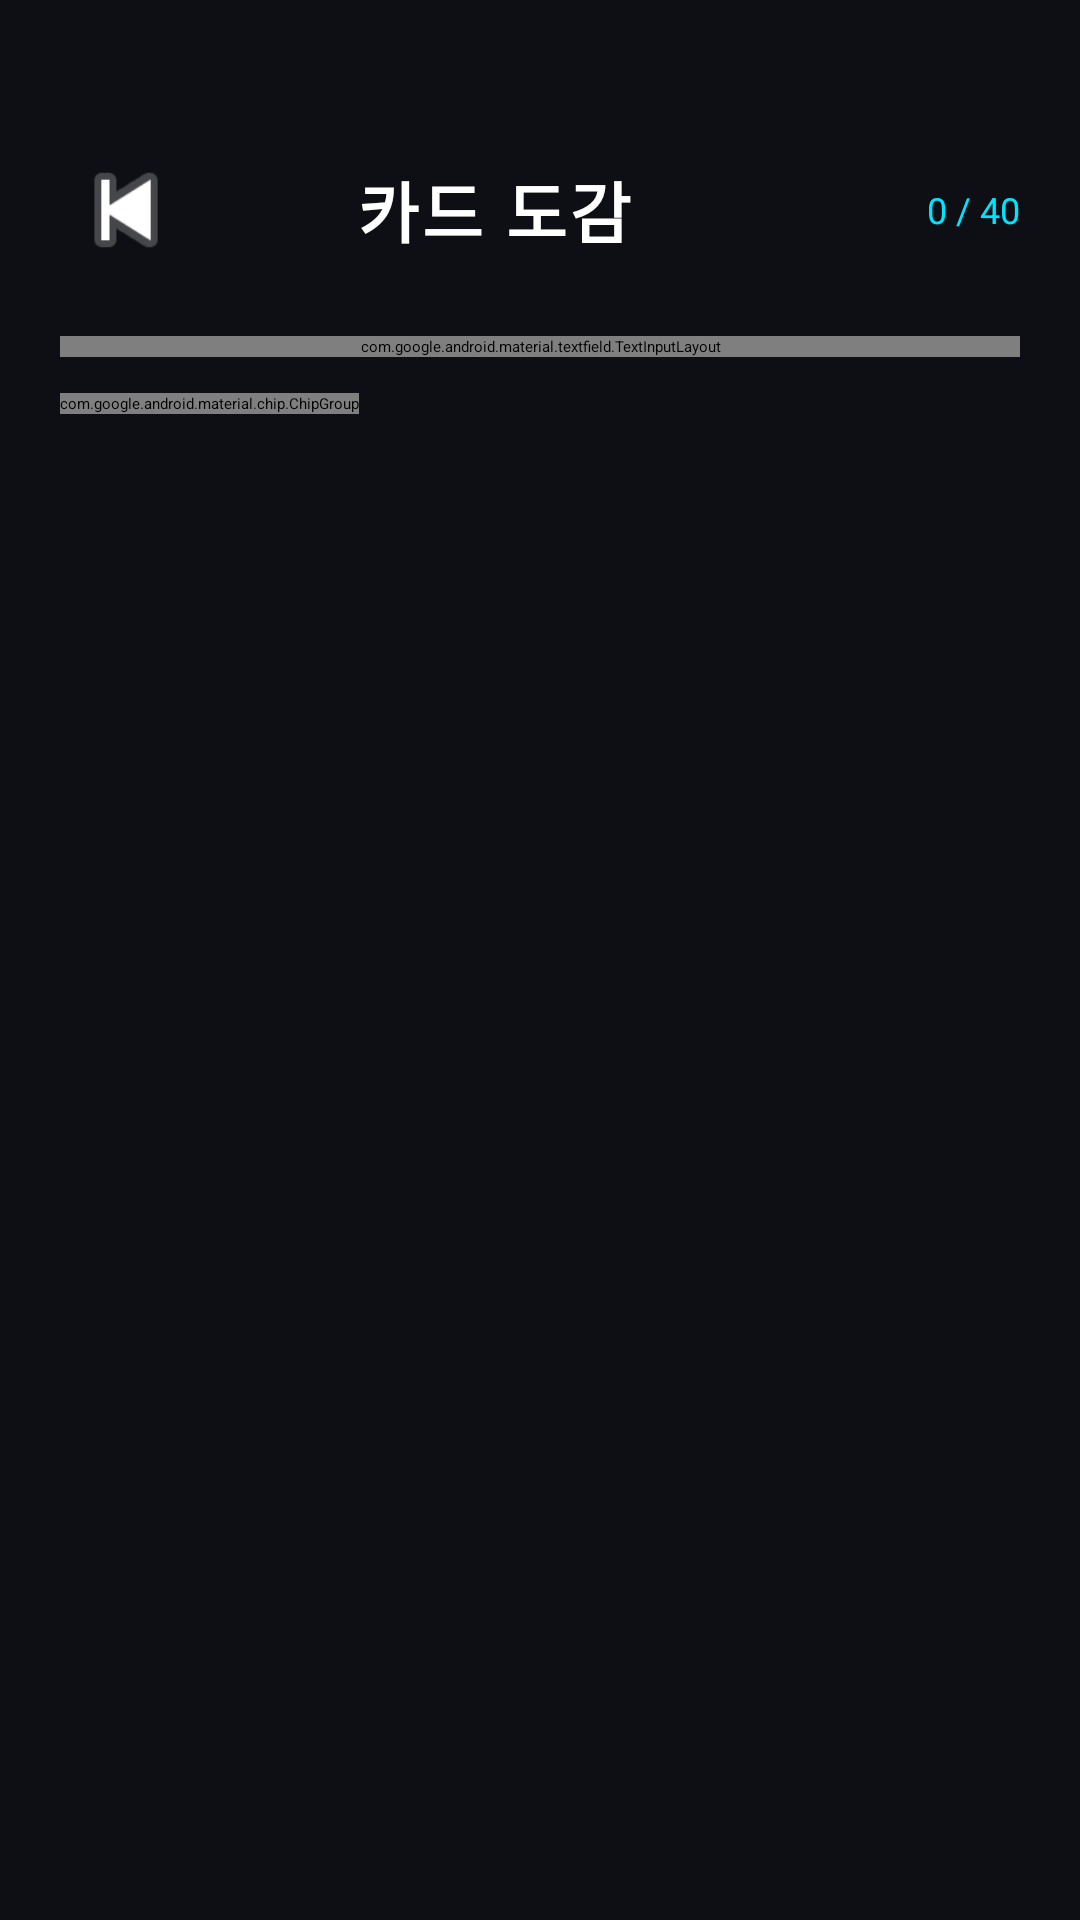

Named icons in this screenshot (1080*1920) and their centers, point (x, y):
뒤로가기: point (126, 210)
